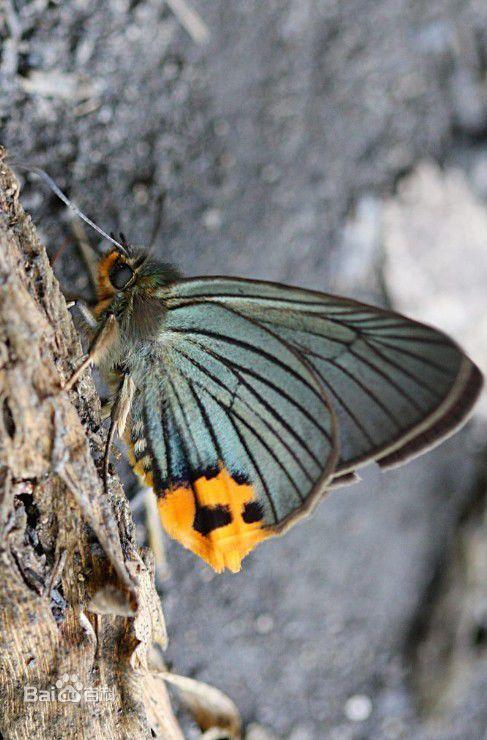Hesperiidae: (22, 168, 487, 573)
